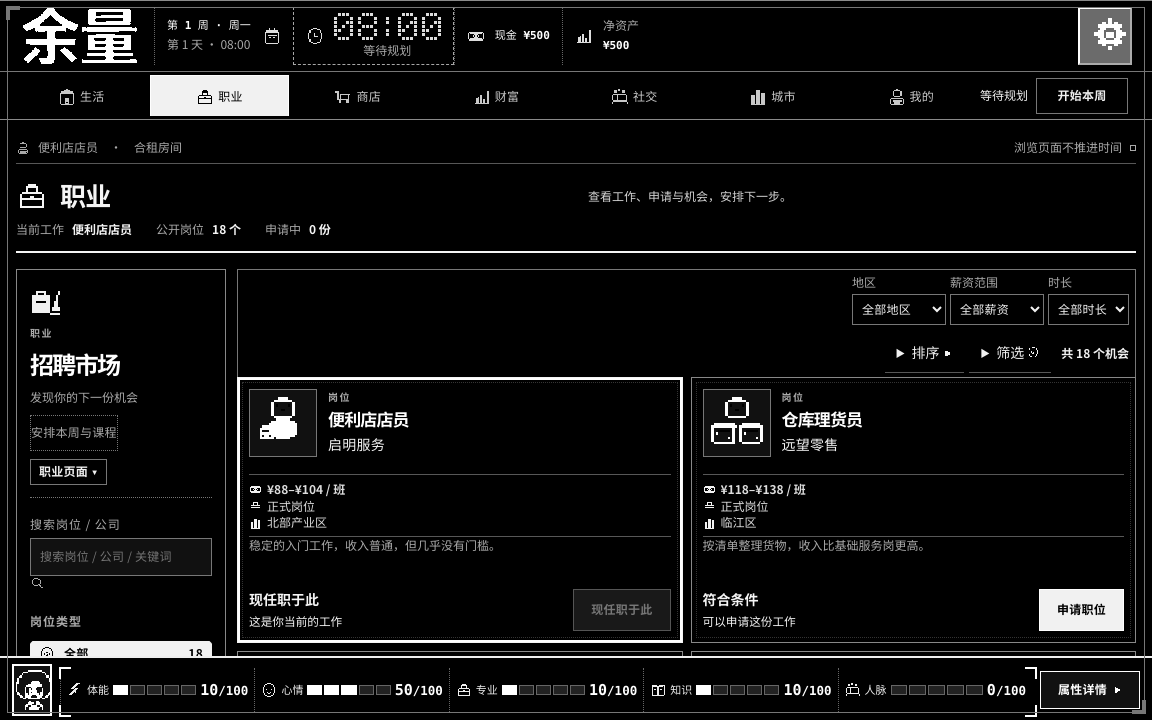
余量 app flow › keeps the reference forecast attribute table complete when a value is unchanged
Click the button "生活".
click(81, 96)  # box [12, 75, 150, 116]
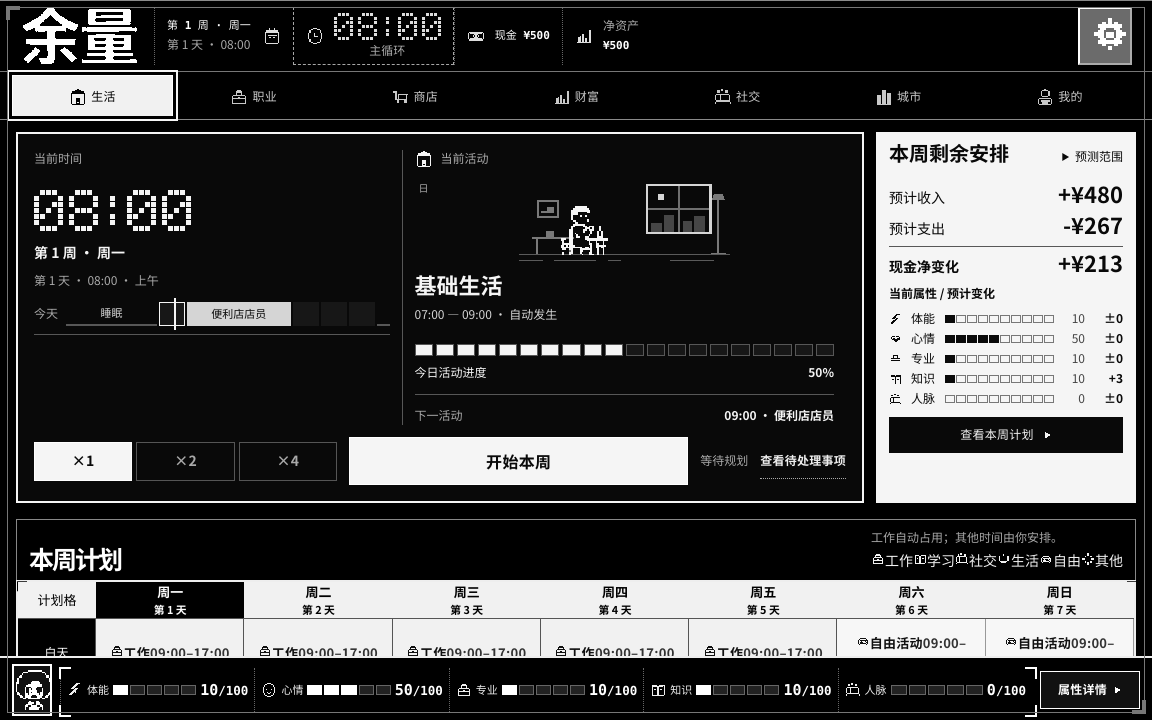
Now the text "体能" below "当前属性 / 预计变化" is shown, box [911, 310, 935, 327]
Now the text "心情" below "当前属性 / 预计变化" is shown, box [911, 330, 935, 347]
Now the text "专业" below "当前属性 / 预计变化" is shown, box [911, 350, 935, 367]
